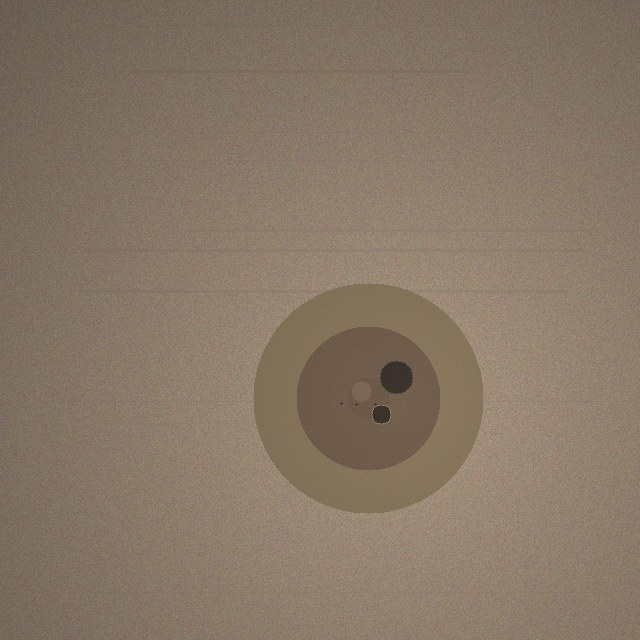shrinkage: (253, 283, 483, 513)
